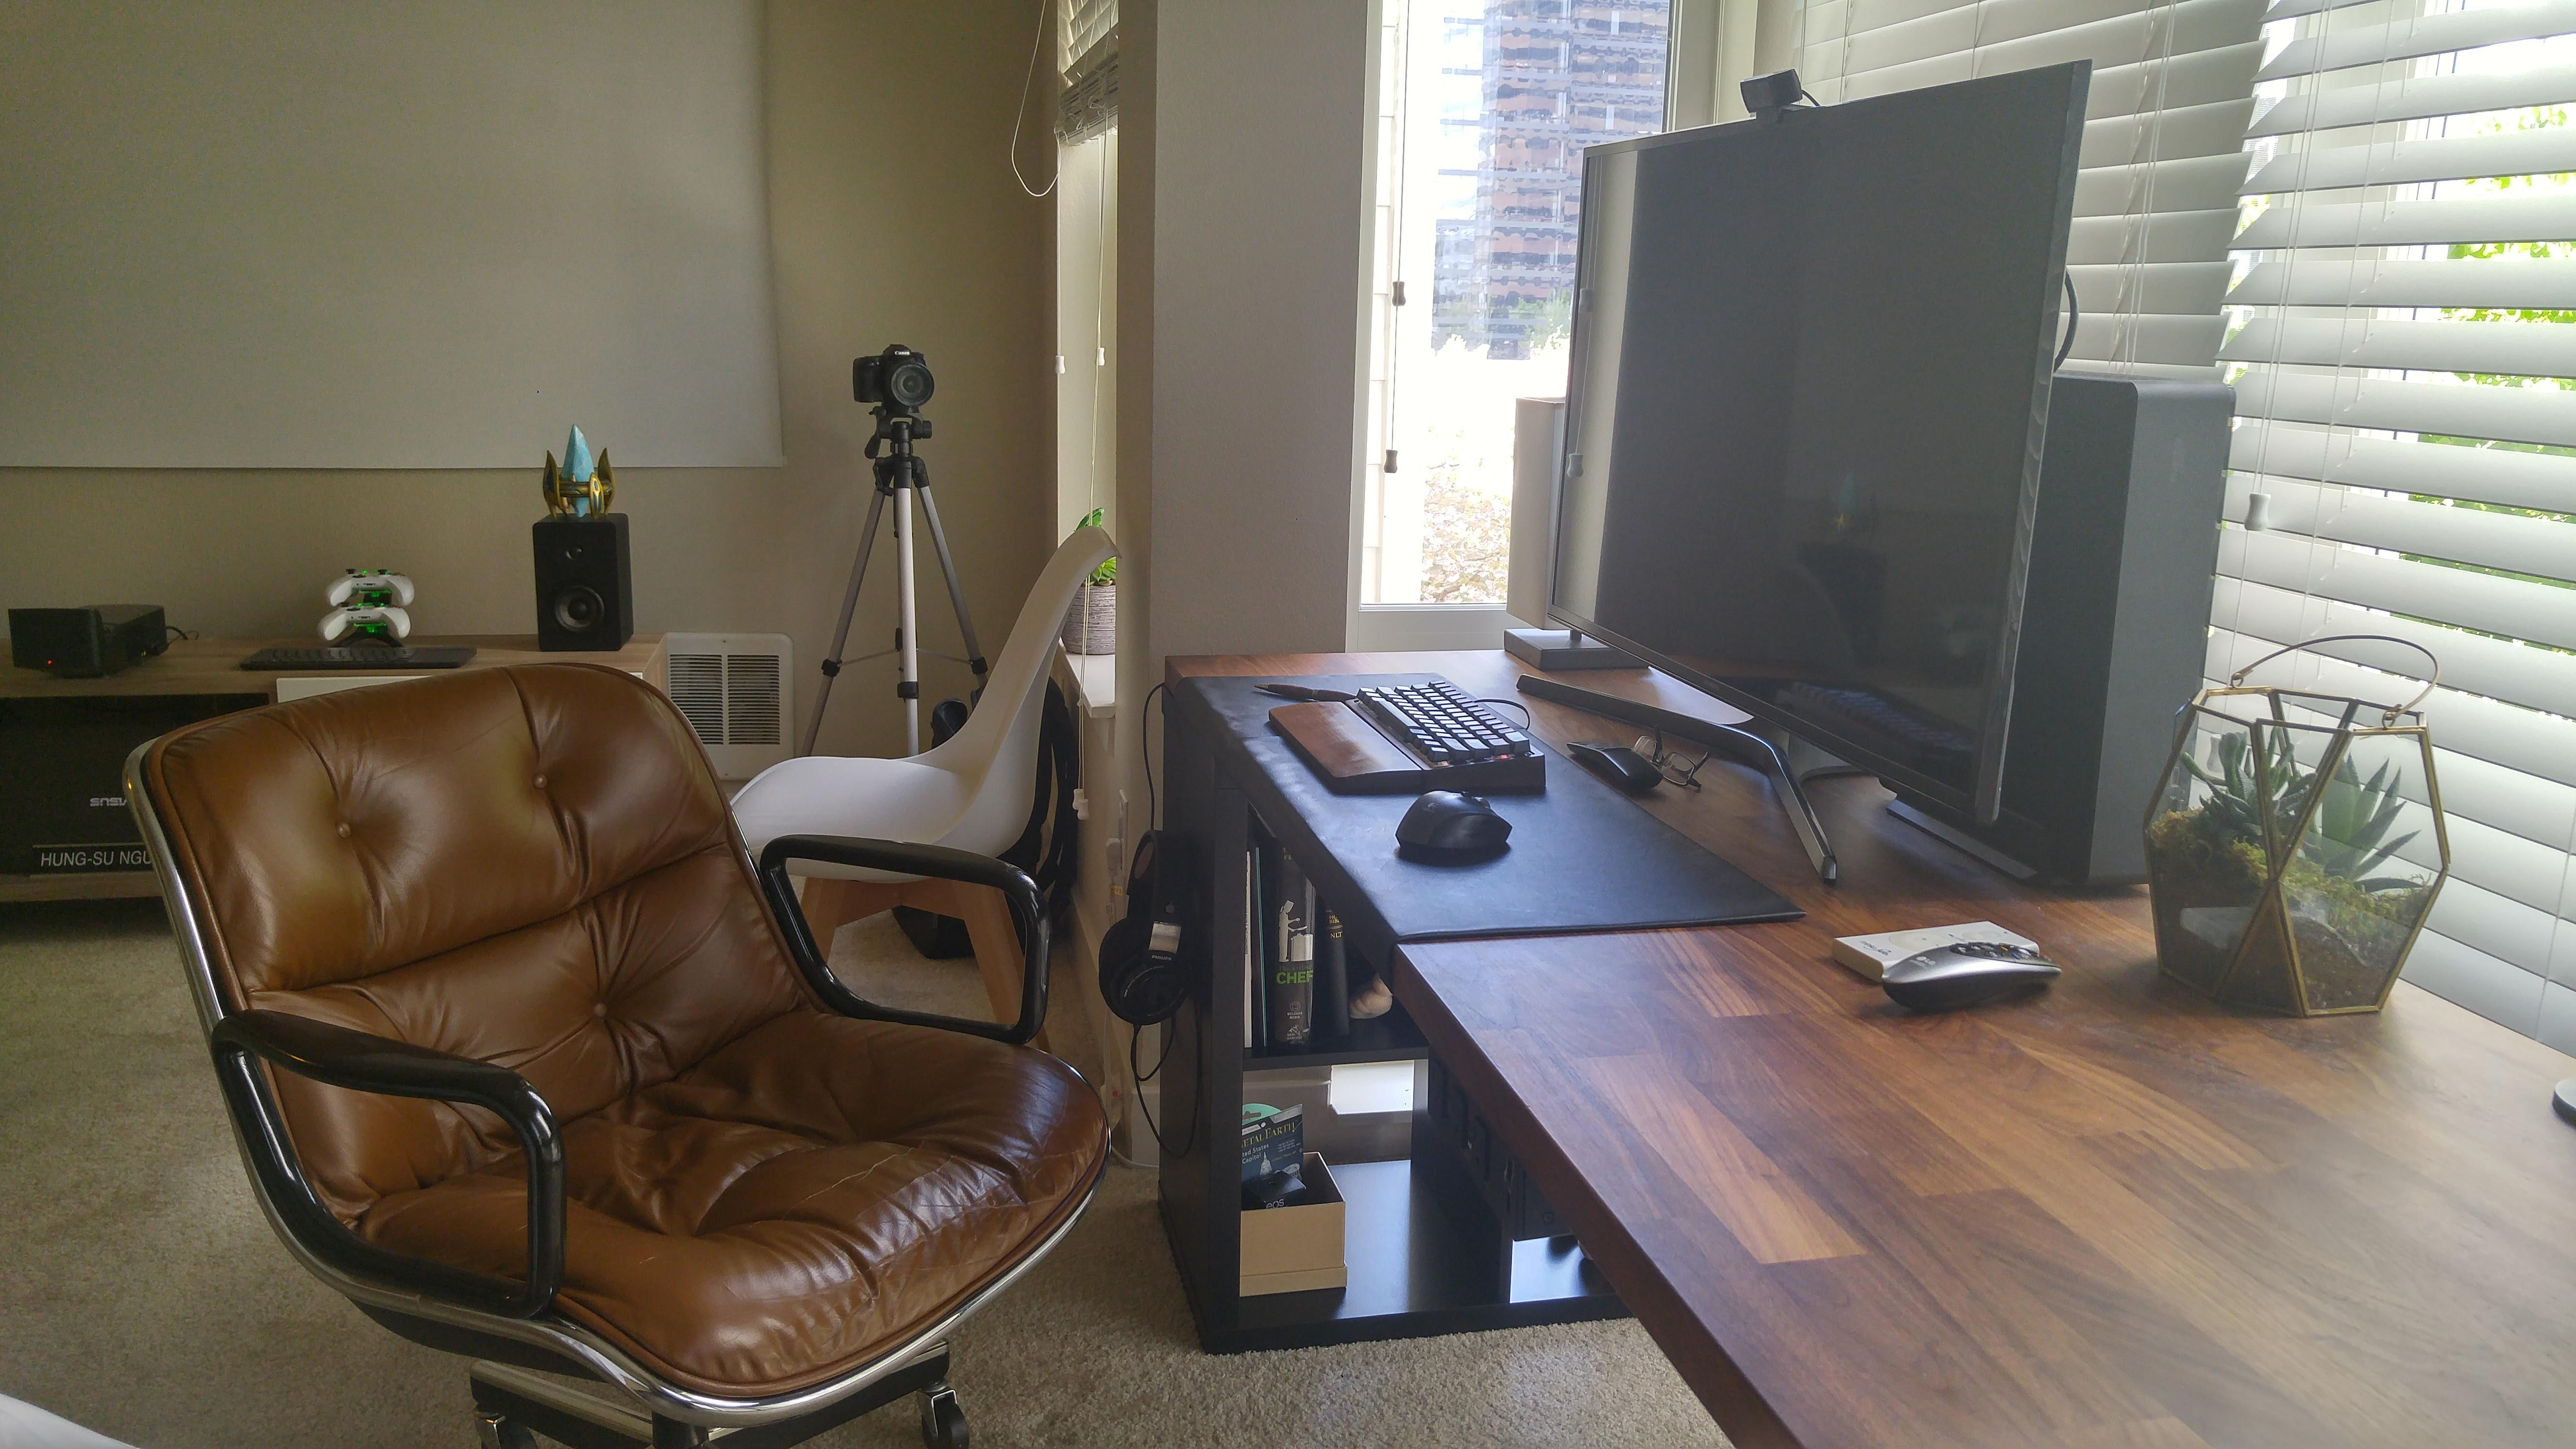Book: (1247, 826, 1350, 1054)
Chair (Generic): (122, 667, 1115, 1449)
Decoration (Plant): (2143, 635, 2454, 1019)
Desk (Generic): (1154, 635, 2576, 1449)
Desktop (Generic): (1879, 379, 2236, 886)
External Webcam: (1741, 71, 1808, 120)
Headphones: (1102, 832, 1189, 1024)
Keyboard (Generic): (1267, 676, 1548, 793)
Lamp (Desk): (1502, 400, 1651, 671)
Monitor (Landscape): (1514, 60, 2095, 892)
Mouse (Ergonomic): (1396, 791, 1513, 855)
Mousepad (Generic): (1187, 671, 1806, 954)
Power Strip: (1424, 1058, 1576, 1240)
